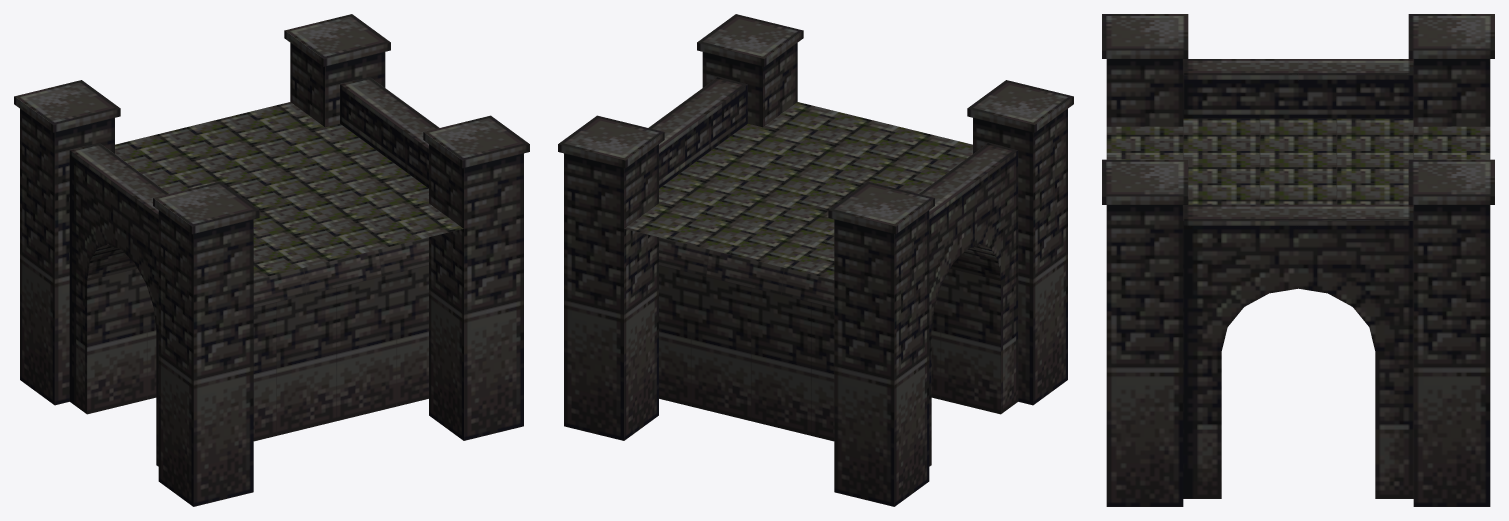
Rendered from ObjMD_Mount_Bridge_A.FBX.
3 views of the same model, side by side, from view 1: azimuth 30°, elevation 25°; view 2: azimuth 150°, elevation 25°; view 3: azimuth 270°, elevation 25° (orthographic). The views are drawn at different scales.
Visible parts, largest first — view 1: ObjMD_Mount_Bridge_A; view 2: ObjMD_Mount_Bridge_A; view 3: ObjMD_Mount_Bridge_A.
Part boxes in pixels (x1,y1,x2,y2): ObjMD_Mount_Bridge_A: [14, 14, 529, 506]; ObjMD_Mount_Bridge_A: [558, 14, 1073, 506]; ObjMD_Mount_Bridge_A: [1102, 14, 1494, 506].
Size of the model in its own units: 562 by 450 by 512.
